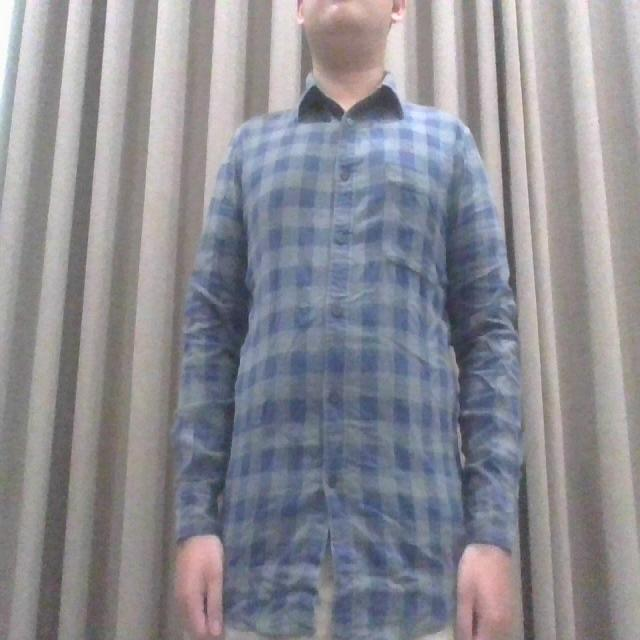long_Sleeve_shirt: (172, 84, 523, 640)
